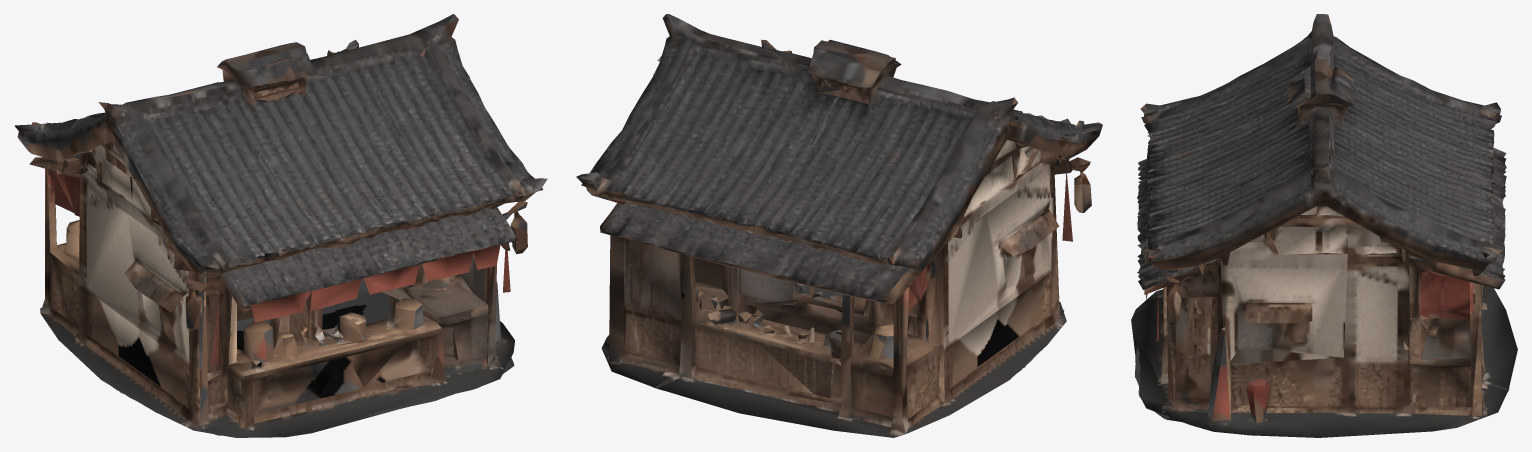
Rendered from 07_Steamed_Food_Shop_LOD2.fbx.
3 views of the same model, side by side, from view 1: azimuth 30°, elevation 25°; view 2: azimuth 150°, elevation 25°; view 3: azimuth 270°, elevation 25° (orthographic). The views are drawn at different scales.
Visible parts, largest first — view 1: 07_Steamed_Food_Shop_L2; view 2: 07_Steamed_Food_Shop_L2; view 3: 07_Steamed_Food_Shop_L2.
Boxes of the visible parts, x1,y1,x2,y2 form: 07_Steamed_Food_Shop_L2: [14, 14, 547, 437]; 07_Steamed_Food_Shop_L2: [576, 14, 1102, 437]; 07_Steamed_Food_Shop_L2: [1131, 14, 1517, 437].
Size of the model in its own units: 7.26 by 5.5 by 7.15.
